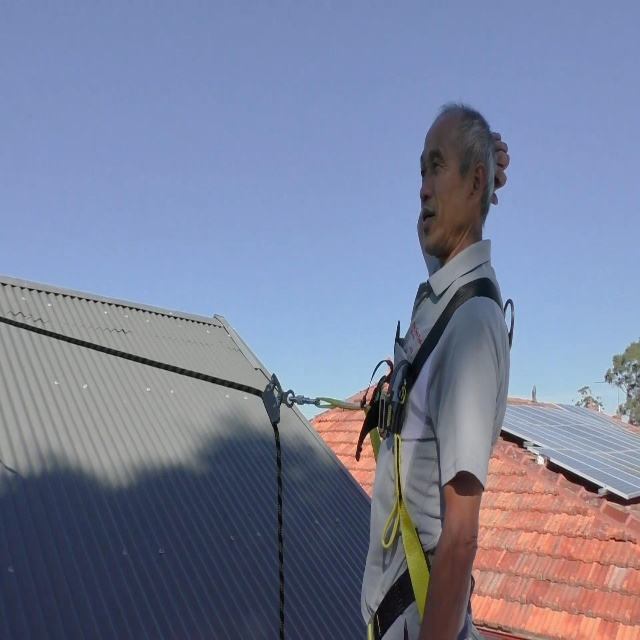Arnes_seguridad: (334, 278, 516, 640)
